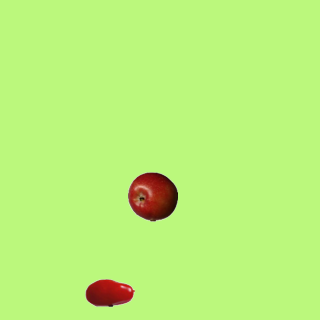Apple Braeburn: (127, 171, 177, 221)
Tomato 2: (84, 267, 134, 317)
